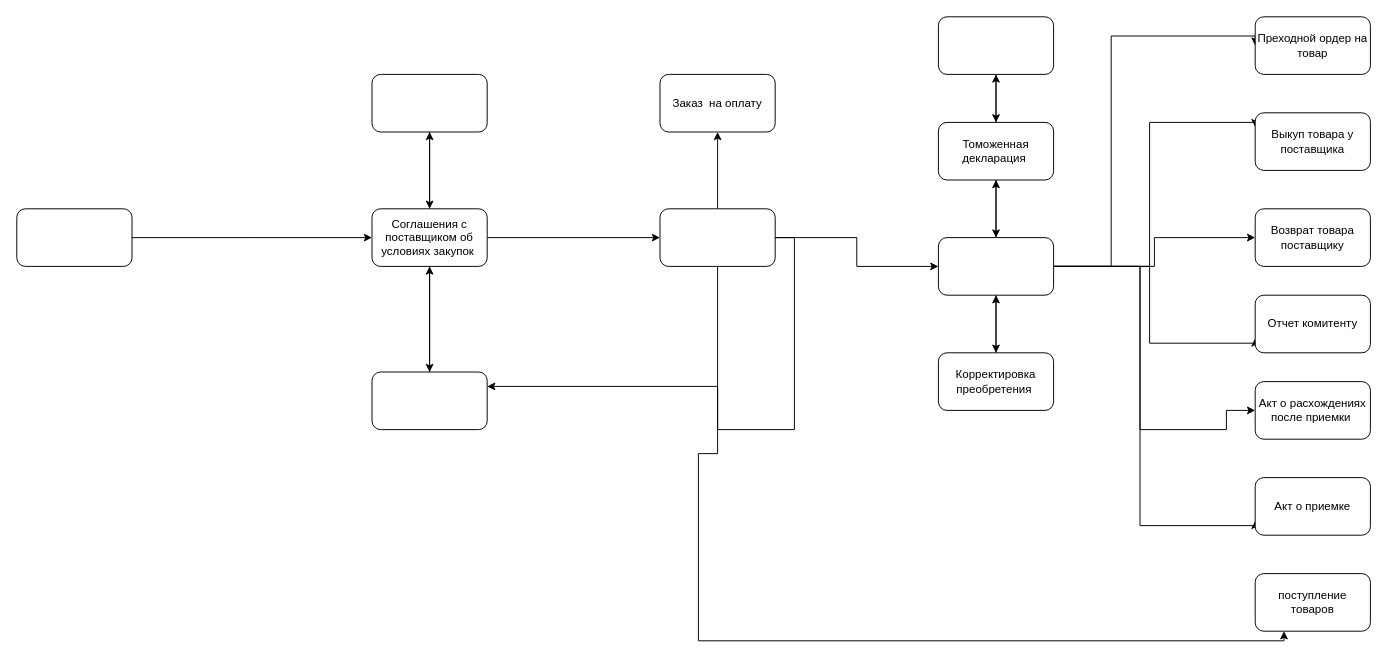
The diagram is 1387 pixels wide and 665 high, and some of its shapes have lost their labels. The box of each missing label's shape, as (x1, y1, x2, y2) in pixels:
Договора с контрагентами: (371, 73, 487, 132)
Заказ поставщику: (659, 208, 775, 266)
Заявление товаров в ЕАЭС: (937, 16, 1054, 74)
Информация о партнерах: (16, 208, 132, 266)
Преобретене товаров и услуг: (937, 237, 1054, 295)
Регестрация цен поставщикам: (371, 371, 487, 430)
